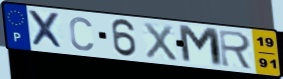6: (110, 18, 139, 58)
C: (68, 15, 95, 53)
M: (176, 23, 225, 69)
R: (217, 29, 255, 72)
X: (26, 9, 67, 51), (142, 21, 179, 63)
